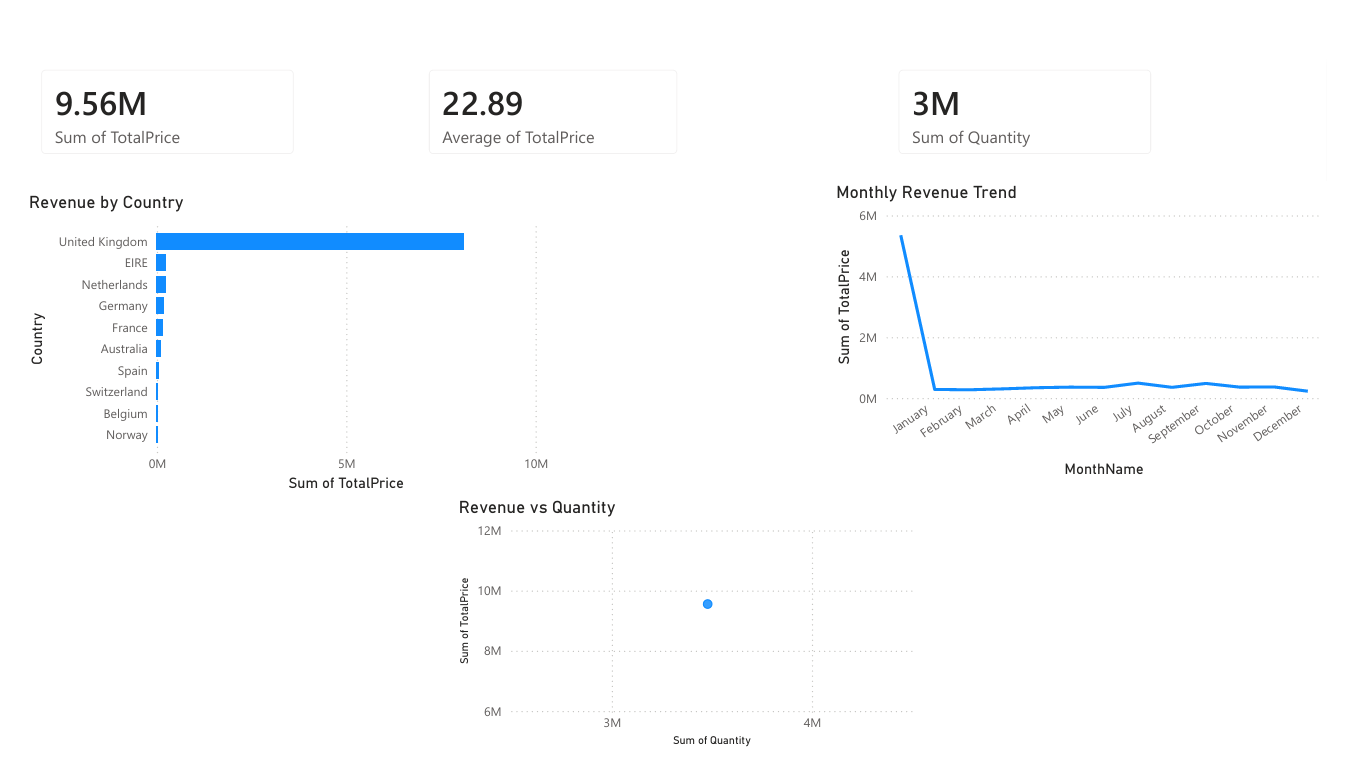

What the dashboard file says about the page in this screenshot:
{"tool":"powerbi","page":{"name":"Profit and Revenue Analysis Dashboard","canvas":[1280,720],"ordinal":7},"visuals":[{"type":"cardVisual","fields":{"Data":["Sum(data.TotalPrice)"]},"box":[10,28,280,116],"z":0},{"type":"cardVisual","fields":{"Data":["Avg(data.TotalPrice)"]},"box":[388,28,276,116],"z":1000},{"type":"cardVisual","fields":{"Data":["Sum(data.Quantity)"]},"box":[846,28,280,116],"z":2000},{"type":"clusteredBarChart","title":"Revenue by Country","fields":{"Y":["Sum(data.TotalPrice)"],"Category":["data.Country"]},"box":[10,164.3,515.7,297.1],"z":3000},{"type":"scatterChart","title":"Revenue vs Quantity","fields":{"X":["Sum(data.Quantity)"],"Y":["Sum(data.TotalPrice)"]},"box":[428.6,461.4,461.4,248.6],"z":5000},{"type":"lineChart","title":"Monthly Revenue Trend","fields":{"Category":["data.MonthName"],"Y":["Sum(data.TotalPrice)"]},"box":[797.1,154.3,482.9,292.9],"z":6000}]}

Visuals, with their boxes on the page's 1280x720 design canvas (x1, y1, x2, y2). These are canvas units, not pixel positions in the 1345x784 screenshot, which may show the page scaled, cropped or inside an application window:
cardVisual - Sum(data.TotalPrice): crop(10, 28, 290, 144)
cardVisual - Avg(data.TotalPrice): crop(388, 28, 664, 144)
cardVisual - Sum(data.Quantity): crop(846, 28, 1126, 144)
"Revenue by Country" clusteredBarChart: crop(10, 164, 526, 461)
"Revenue vs Quantity" scatterChart: crop(429, 461, 890, 710)
"Monthly Revenue Trend" lineChart: crop(797, 154, 1280, 447)
